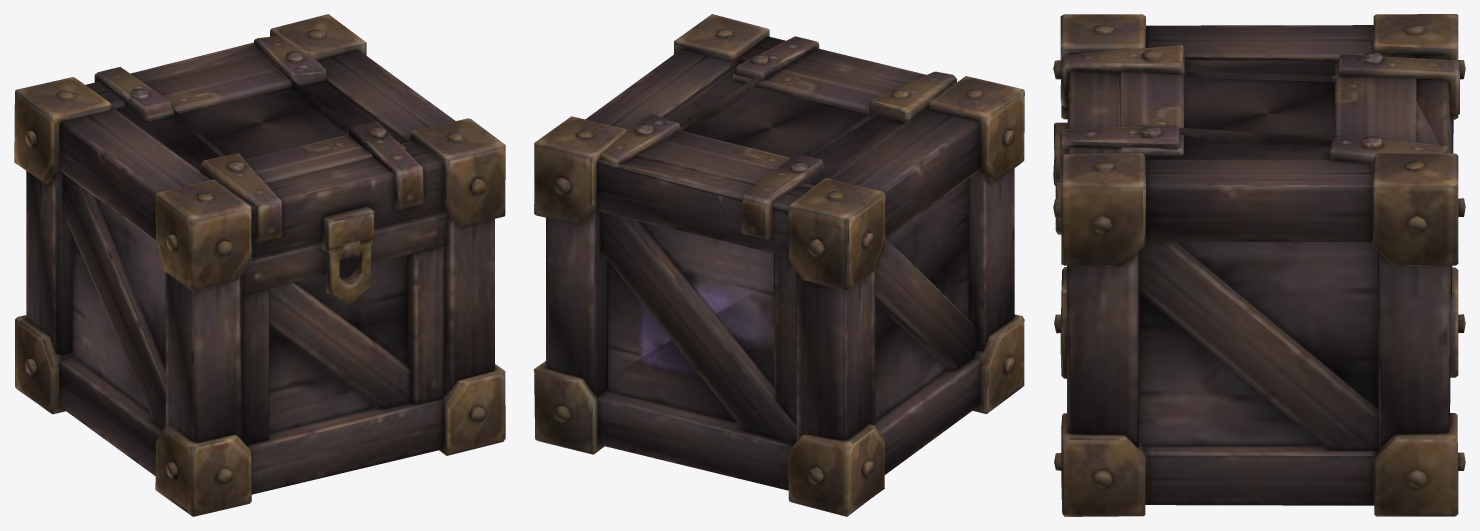
Rendered from supply_crate.glb.
The picture shows the model from 3 angles, left to right: view 1: azimuth 30°, elevation 25°; view 2: azimuth 150°, elevation 25°; view 3: azimuth 270°, elevation 25°; orthographic projection. The views are drawn at different scales.
Parts seen in each view (by area): view 1: kit-supply-crate-1; view 2: kit-supply-crate-1; view 3: kit-supply-crate-1.
Boxes of the visible parts, left/top/right/bottom form: kit-supply-crate-1: left=14, top=14, right=505, bottom=516; kit-supply-crate-1: left=534, top=14, right=1024, bottom=516; kit-supply-crate-1: left=1053, top=14, right=1465, bottom=516.
Bounding box in the file's own units: 1.09 × 1 × 1.08.
Materials: 1 (1 with a texture image).
